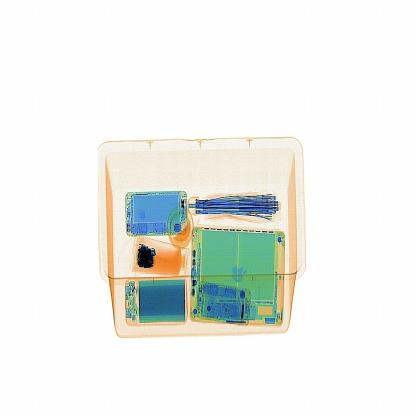scissors: (131, 243, 161, 271)
